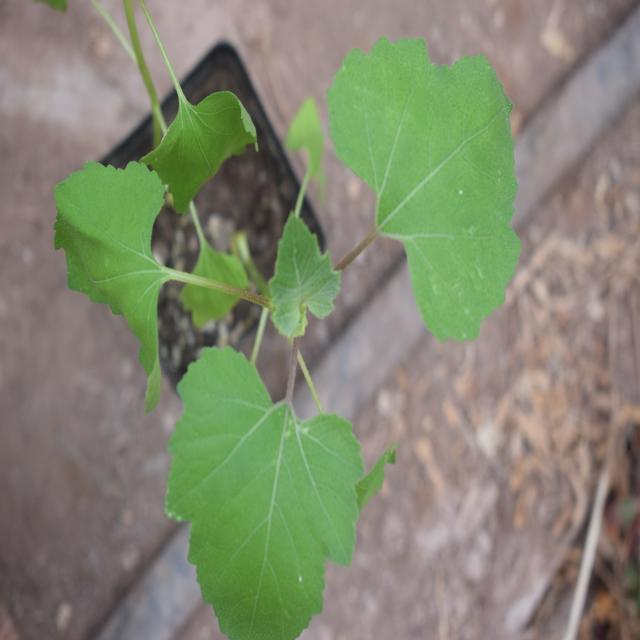cocklebur: (59, 43, 526, 620)
